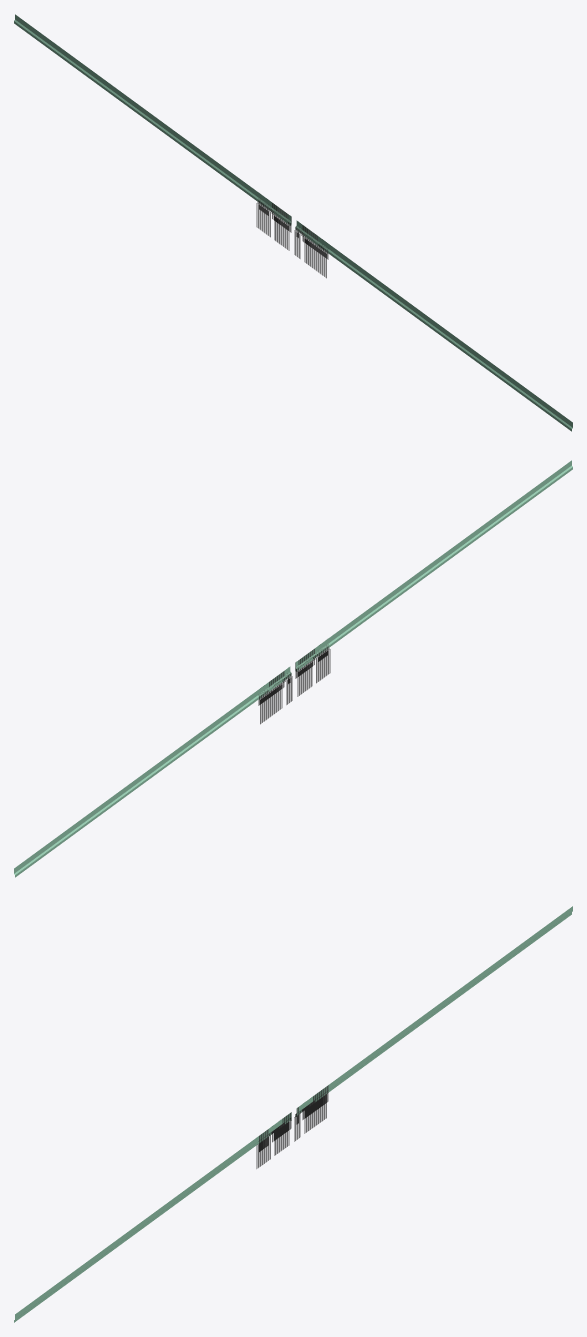
The model's file is Palace_struts and glass.fbx.
3 renders of one model, top to bottom at view 1: azimuth 30°, elevation 25°; view 2: azimuth 150°, elevation 25°; view 3: azimuth 330°, elevation 25°, orthographic.
Parts seen in each view (by area): view 1: Plane.453, Plane.452, Plane.454; view 2: Plane.453, Plane.452, Plane.454; view 3: Plane.453, Plane.452, Plane.454.
Part boxes in pixels (left/top/right/bottom): Plane.453: left=14, top=14, right=572, bottom=431; Plane.452: left=256, top=198, right=328, bottom=278; Plane.454: left=259, top=203, right=328, bottom=259; Plane.453: left=14, top=460, right=572, bottom=877; Plane.452: left=258, top=644, right=330, bottom=724; Plane.454: left=258, top=649, right=327, bottom=705; Plane.453: left=14, top=906, right=572, bottom=1322; Plane.452: left=256, top=1093, right=326, bottom=1168; Plane.454: left=259, top=1085, right=328, bottom=1151.
Size of the model in its own units: 11 by 143 by 4230.
